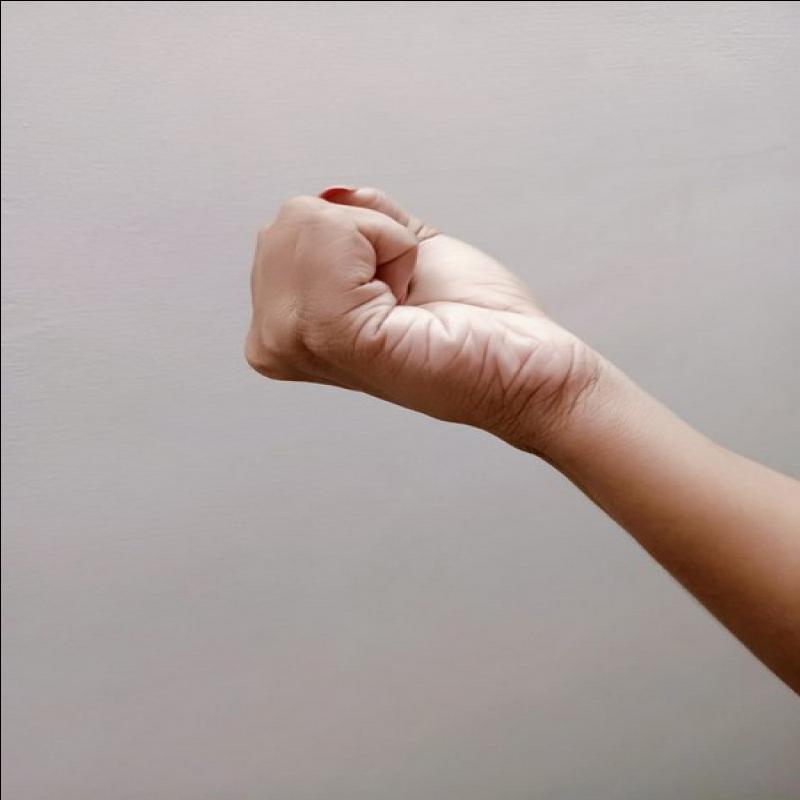Mushti: (225, 169, 607, 454)
